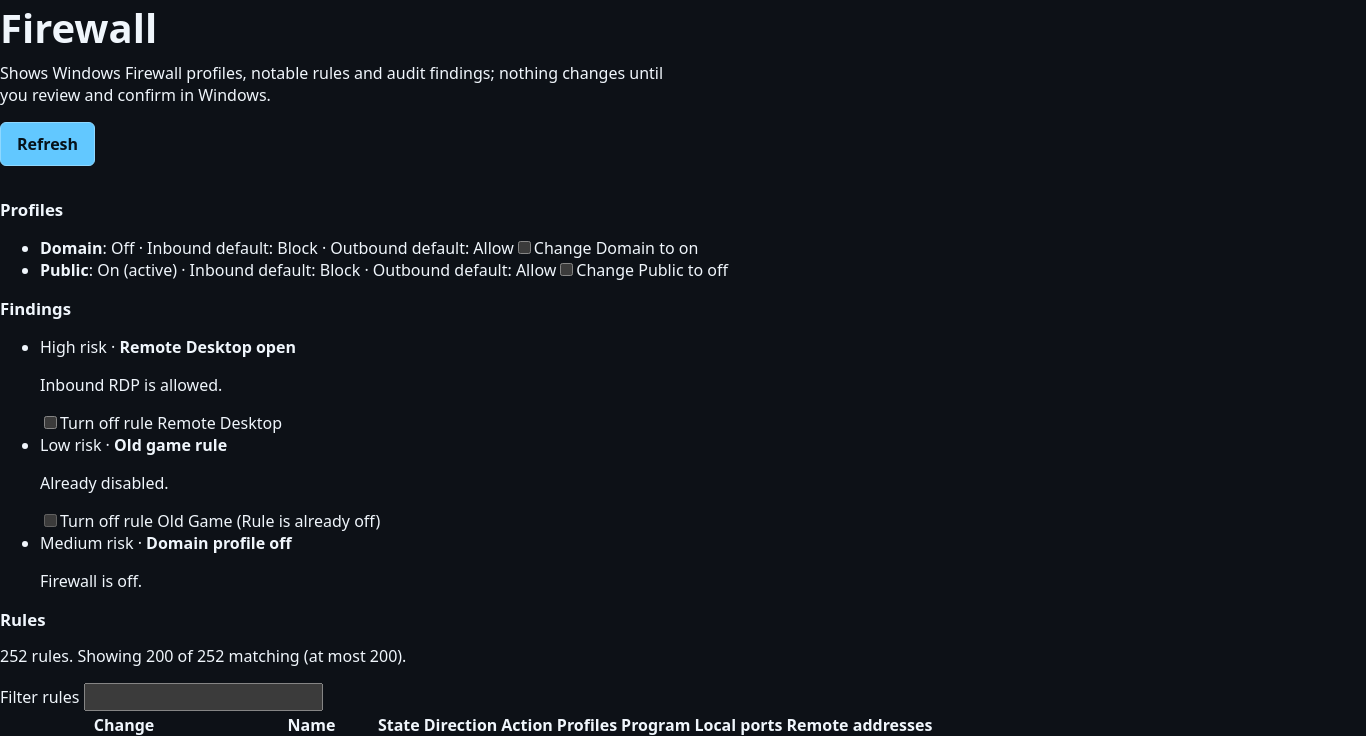
Test case: a finding checkbox sends exactly the rule change, and nothing is confirmed before Windows confirmation
The image size is (1366, 736).
Click the checkbox labelled "Turn off rule Remote Desktop".
click(50, 422)  # box x1=44 y1=416 x2=57 y2=429
(page scrolled)
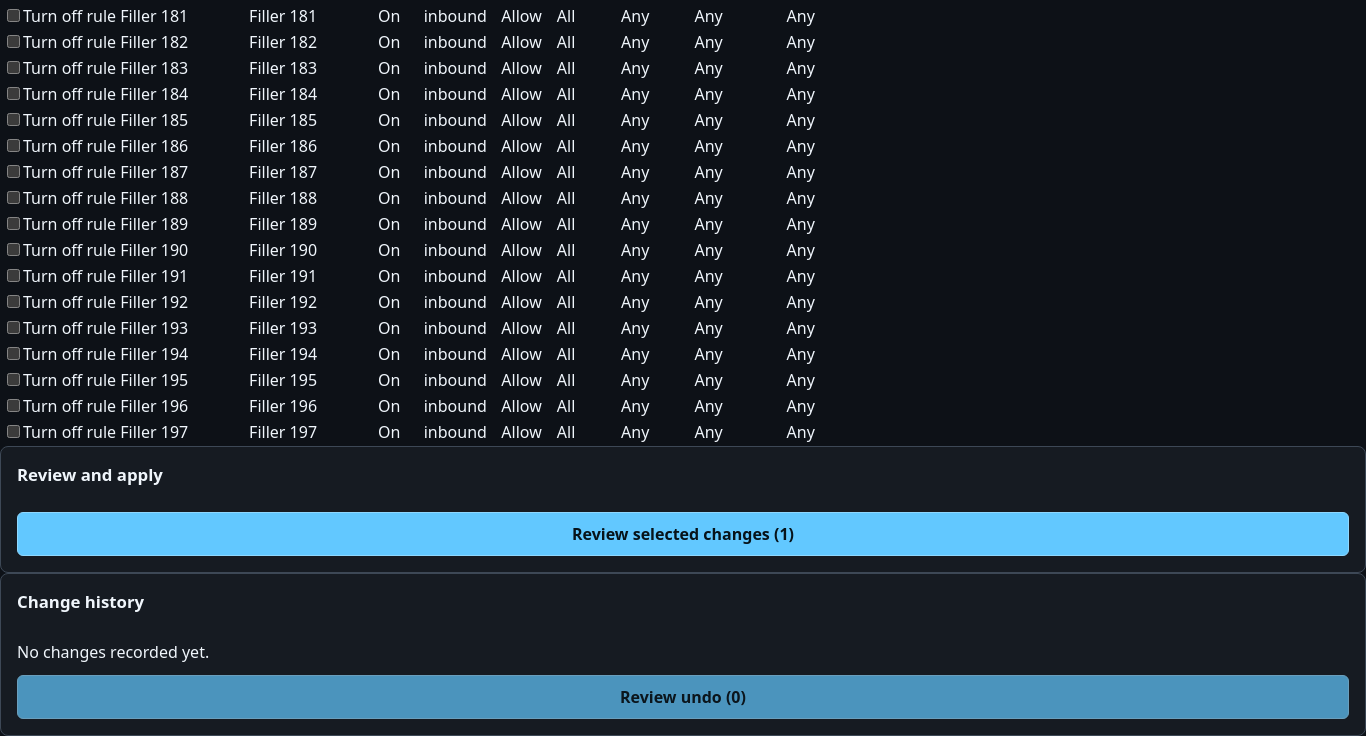
Click the button "Review selected changes (1)".
click(683, 534)  # box x1=17 y1=512 x2=1349 y2=556
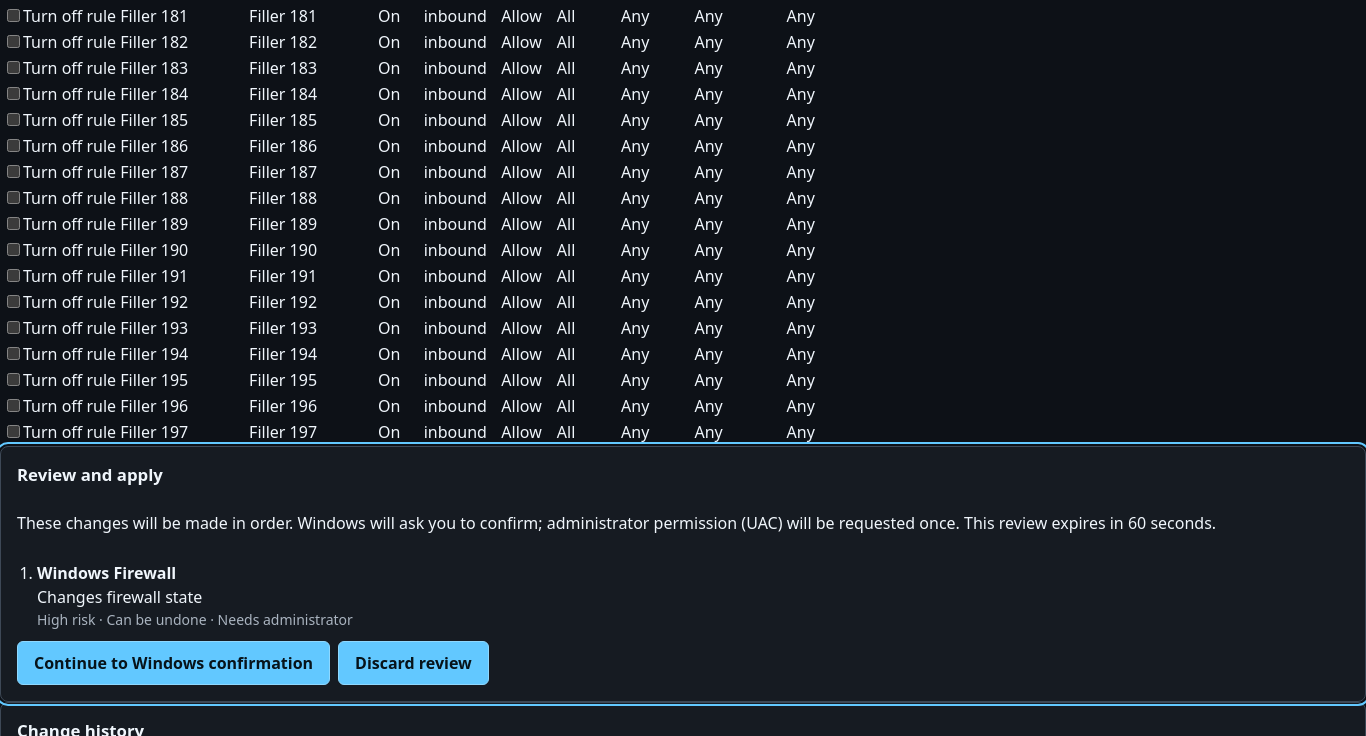
Check: the button "Continue to Windows confirmation" is shown, box x1=17 y1=641 x2=330 y2=685
